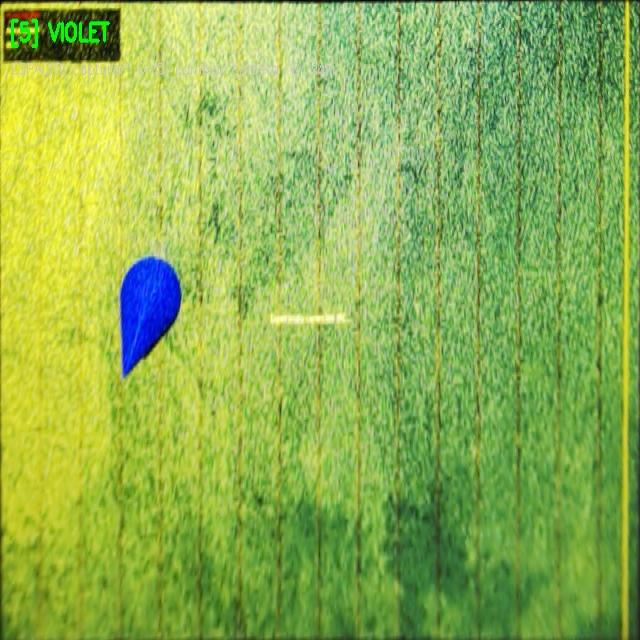violet: (121, 256, 180, 376)
